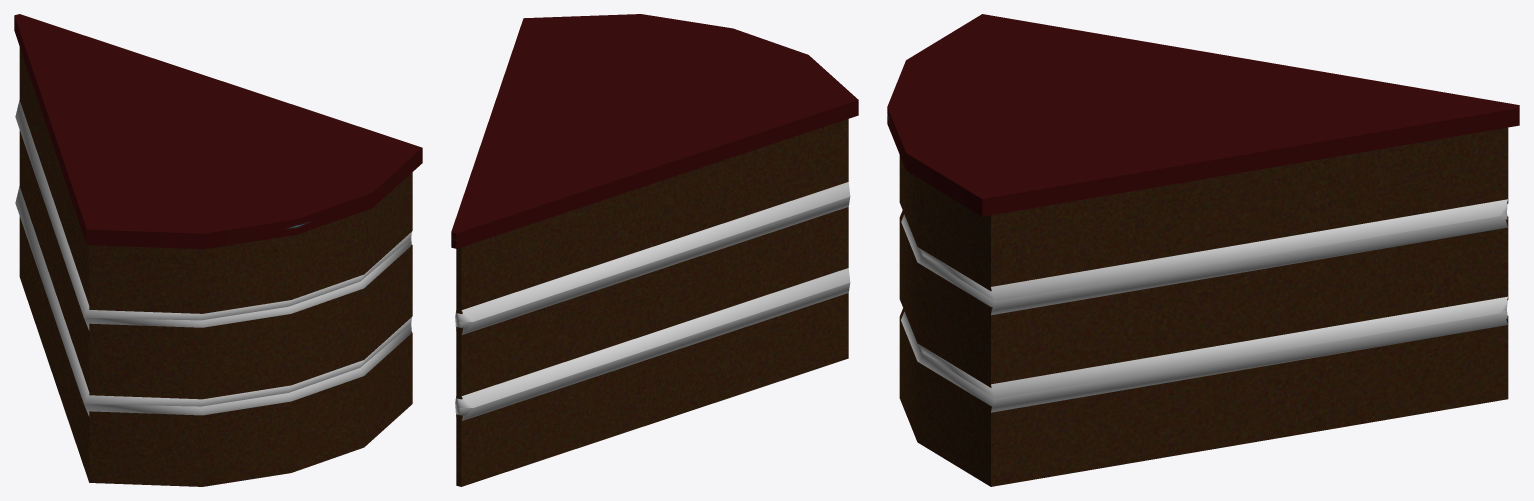
The model's file is Cake.FBX.
The picture shows the model from 3 angles, left to right: view 1: azimuth 30°, elevation 25°; view 2: azimuth 150°, elevation 25°; view 3: azimuth 270°, elevation 25°; orthographic projection. The views are drawn at different scales.
Visible parts, largest first — view 1: Cake; view 2: Cake; view 3: Cake.
Part boxes in pixels (left/top/right/bottom): Cake: left=14, top=14, right=422, bottom=486; Cake: left=451, top=14, right=858, bottom=486; Cake: left=887, top=14, right=1519, bottom=486.
Size of the model in its own units: 0.6148 by 0.4508 by 0.8869.
